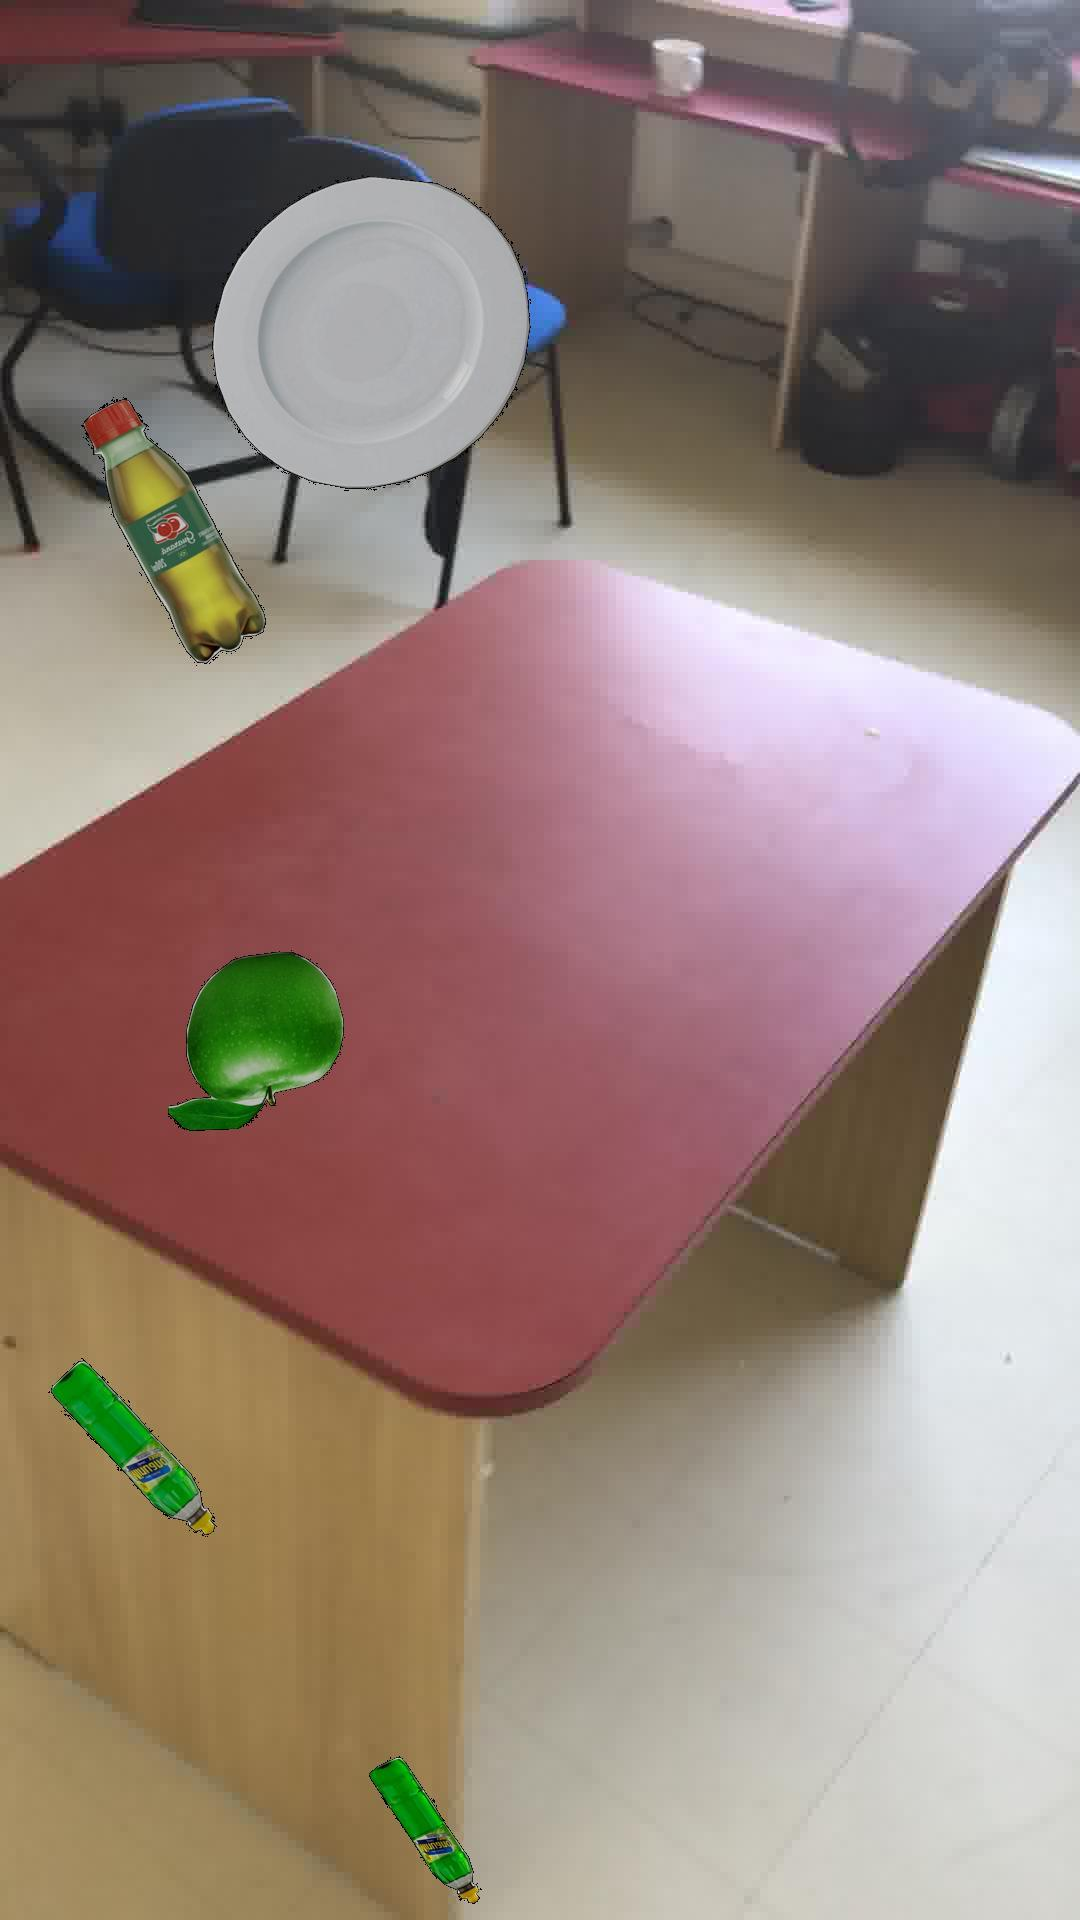cleaner: (50, 1357, 215, 1534), (368, 1754, 479, 1903)
green apple: (166, 949, 343, 1130)
guarana: (79, 397, 265, 662)
plate: (211, 174, 530, 488)
